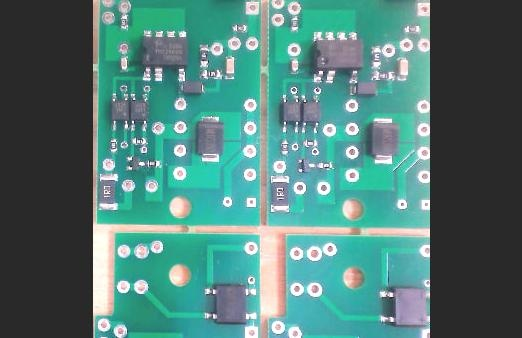chip-capacitor: (396, 57, 408, 81), (223, 55, 234, 80), (119, 55, 128, 73), (289, 57, 298, 74)
chip-resistor: (268, 174, 291, 215), (97, 172, 119, 211), (197, 68, 224, 81), (369, 70, 395, 82), (370, 45, 381, 70), (197, 45, 208, 69), (288, 15, 299, 33), (402, 24, 420, 35), (278, 139, 288, 158), (230, 23, 247, 32), (119, 14, 128, 31), (316, 161, 333, 170), (108, 137, 117, 153), (130, 137, 147, 145), (302, 139, 317, 148), (145, 160, 161, 168)
diode: (368, 117, 400, 166), (194, 115, 224, 164), (347, 81, 376, 97), (177, 81, 205, 95)
ic: (311, 30, 363, 84), (140, 28, 188, 83), (202, 283, 257, 325), (377, 287, 430, 328), (280, 94, 300, 134), (300, 94, 320, 134), (109, 92, 129, 131), (129, 92, 148, 132)
transistor: (295, 158, 315, 174), (125, 156, 145, 171)
